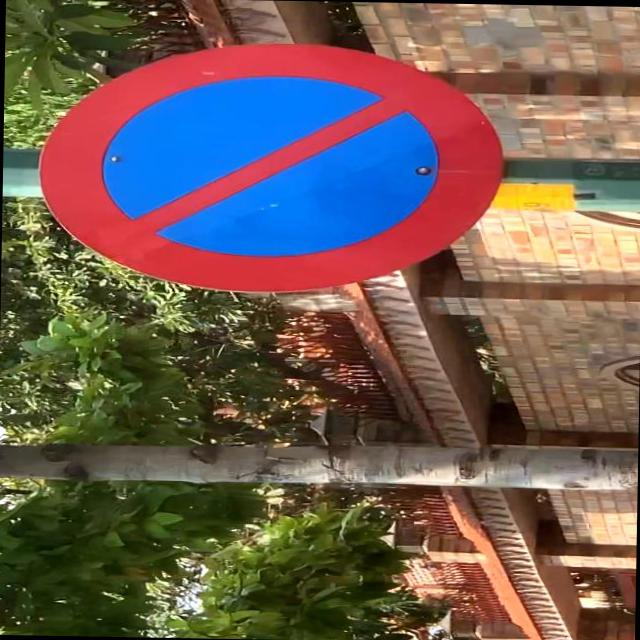P-131a: (35, 38, 502, 293)
